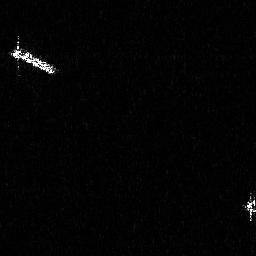ship: (10, 34, 59, 78)
